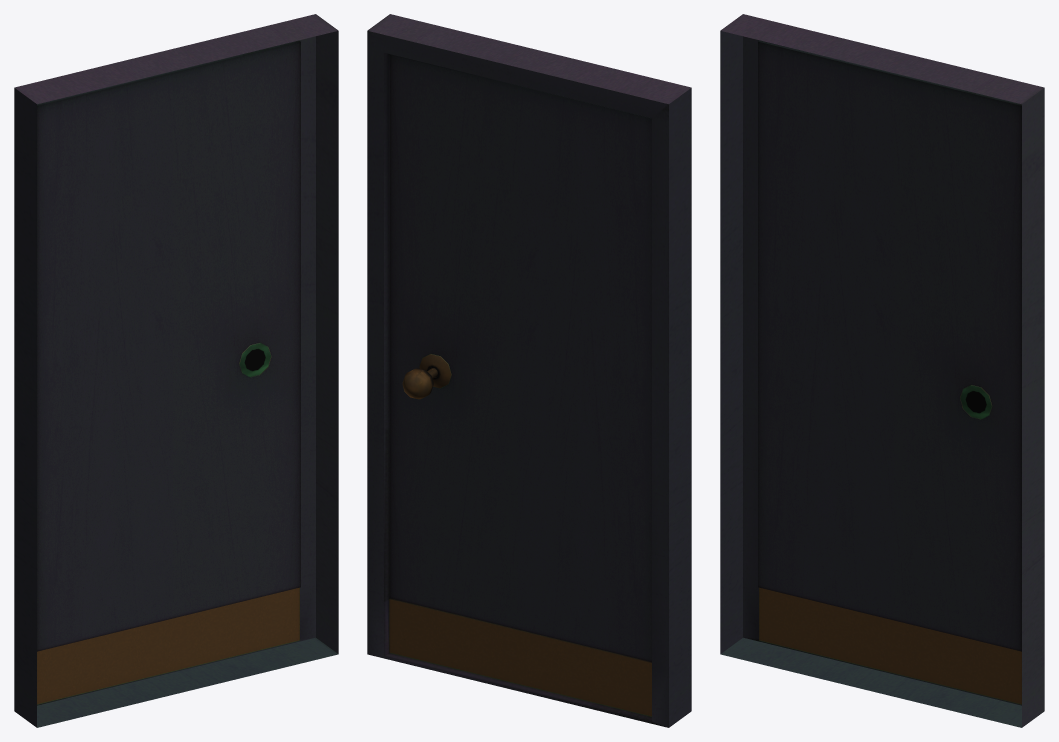
The model's file is doortall.obj.
The picture shows the model from 3 angles, left to right: view 1: azimuth 30°, elevation 25°; view 2: azimuth 150°, elevation 25°; view 3: azimuth 330°, elevation 25°; orthographic projection.
Visible parts, largest first — view 1: Doortall; view 2: Doortall; view 3: Doortall.
Part boxes in pixels (x1=…): Doortall: x1=14, y1=14, x2=338, y2=727; Doortall: x1=367, y1=14, x2=691, y2=727; Doortall: x1=720, y1=14, x2=1044, y2=727.
Bounding box in the file's own units: 1.17 × 2.31 × 0.2978.
Materials: 1 (1 with a texture image).
